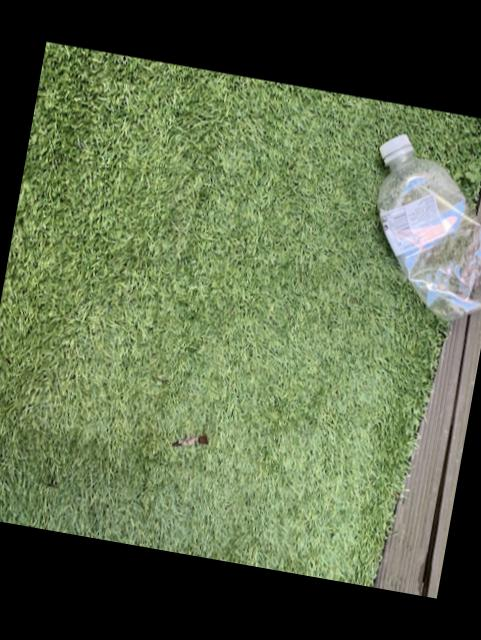plastic: (377, 136, 481, 321)
